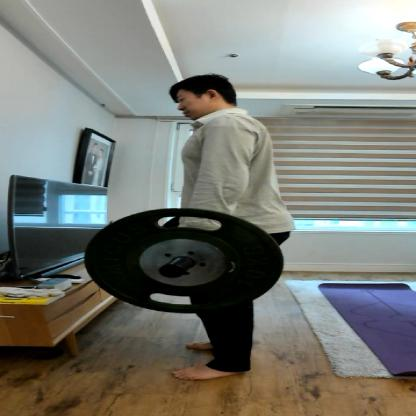Barbell: (72, 202, 294, 318)
